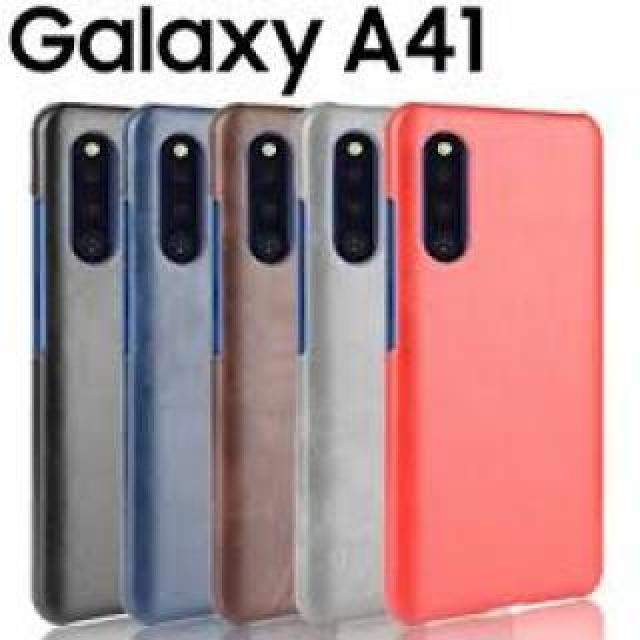smart phone: (382, 92, 636, 618), (24, 86, 120, 640), (127, 93, 220, 622), (300, 98, 388, 625), (216, 96, 300, 640)
